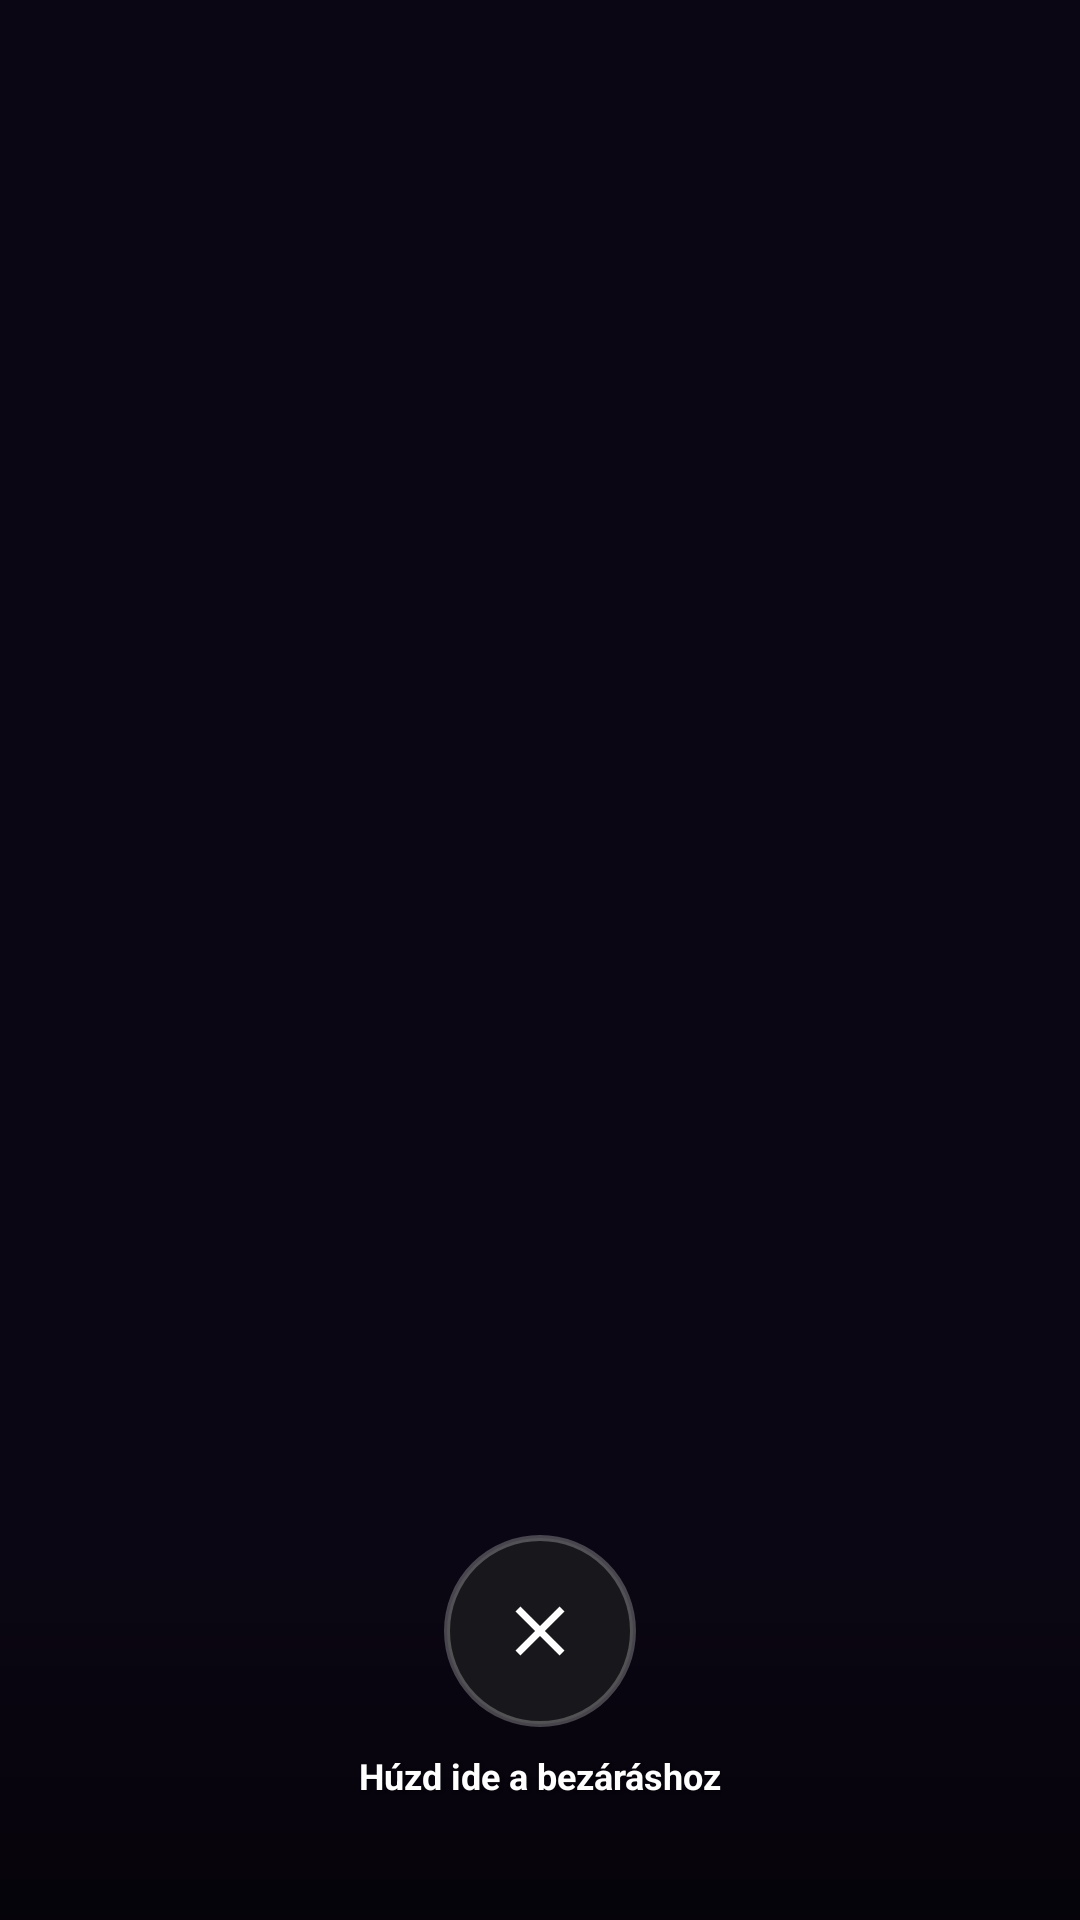

Point at icon controls on the screen. Image size 1080 x 1920, points as [x,y].
close: [540,1631]
